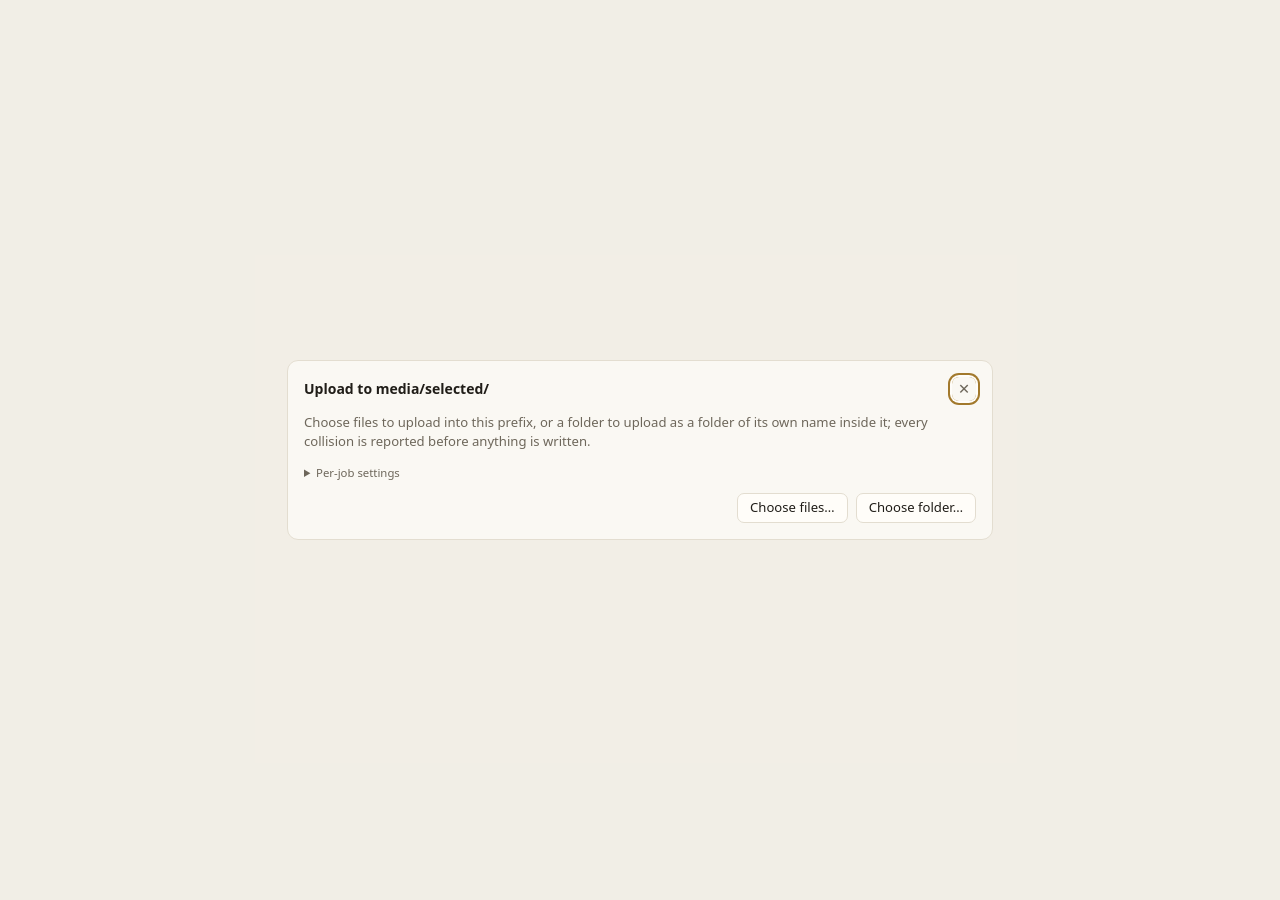
Scenario: upload preflight binding › cannot reuse the old report after picker cancel
Click the button "Choose files…" at x=792, y=508, box [737,493,848,523]
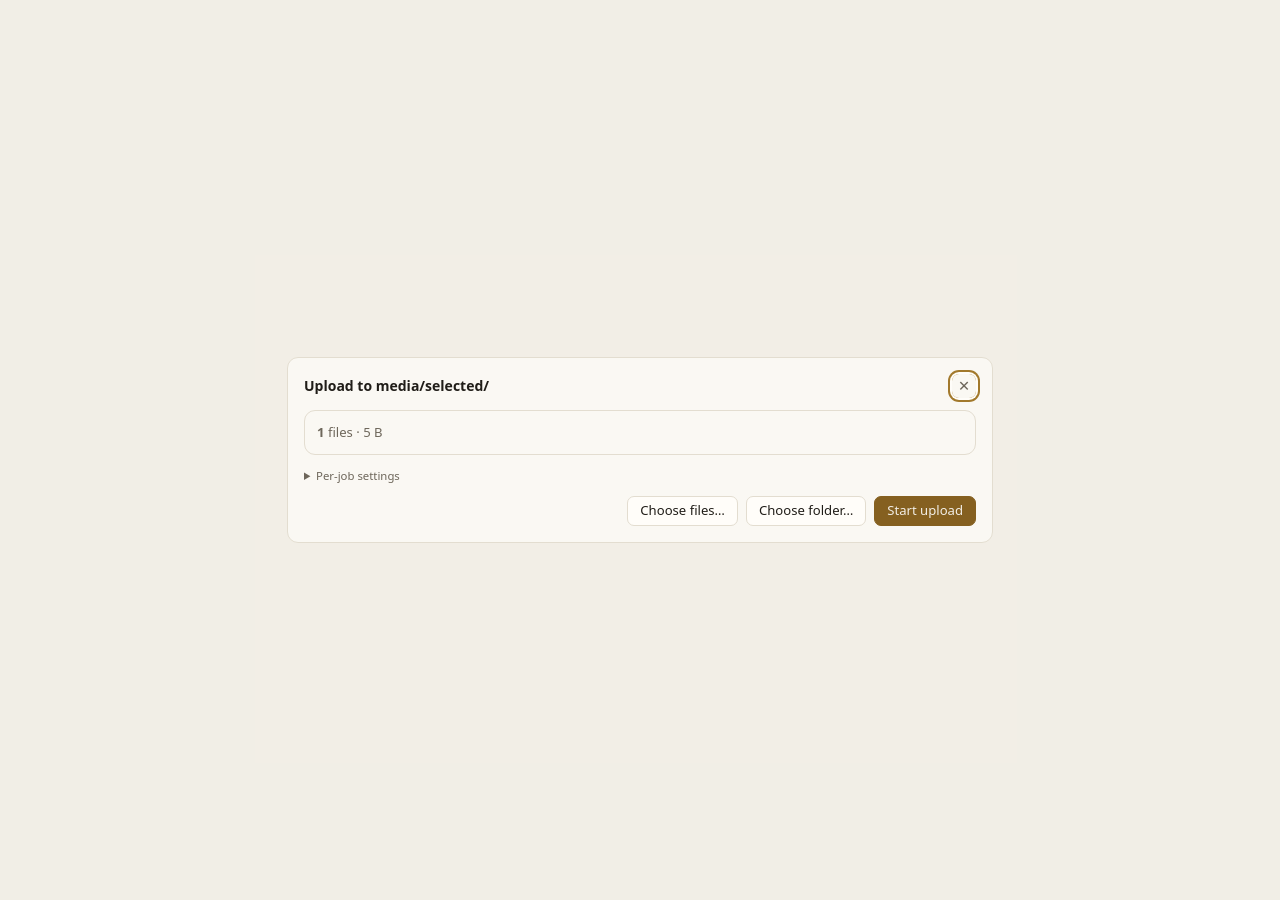
Click the button "Choose files…" at x=683, y=511, box [627,496,738,526]
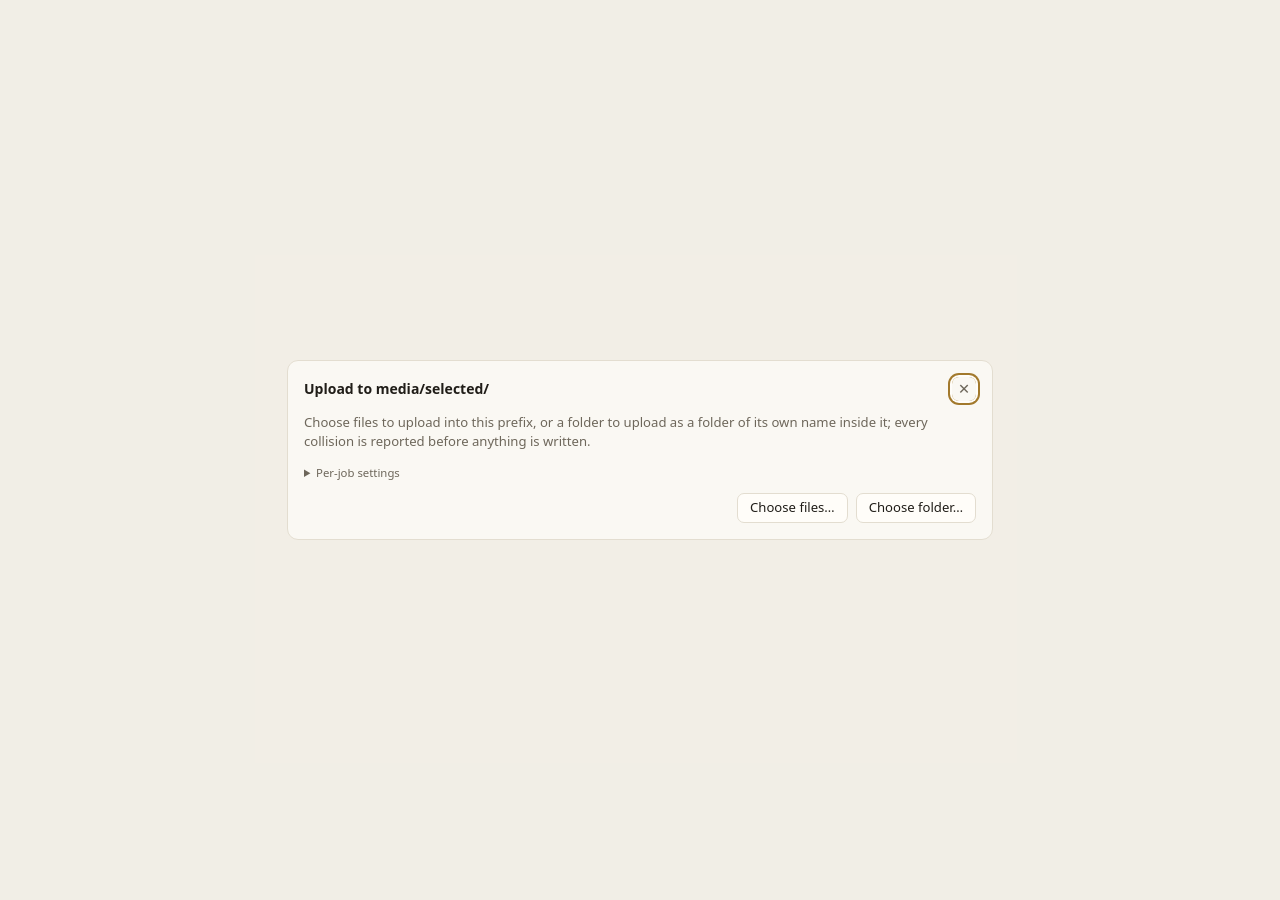
Expected: the button "Choose files…" is enabled, [737,493,848,523]
Expected: the element with class "report" is gone
